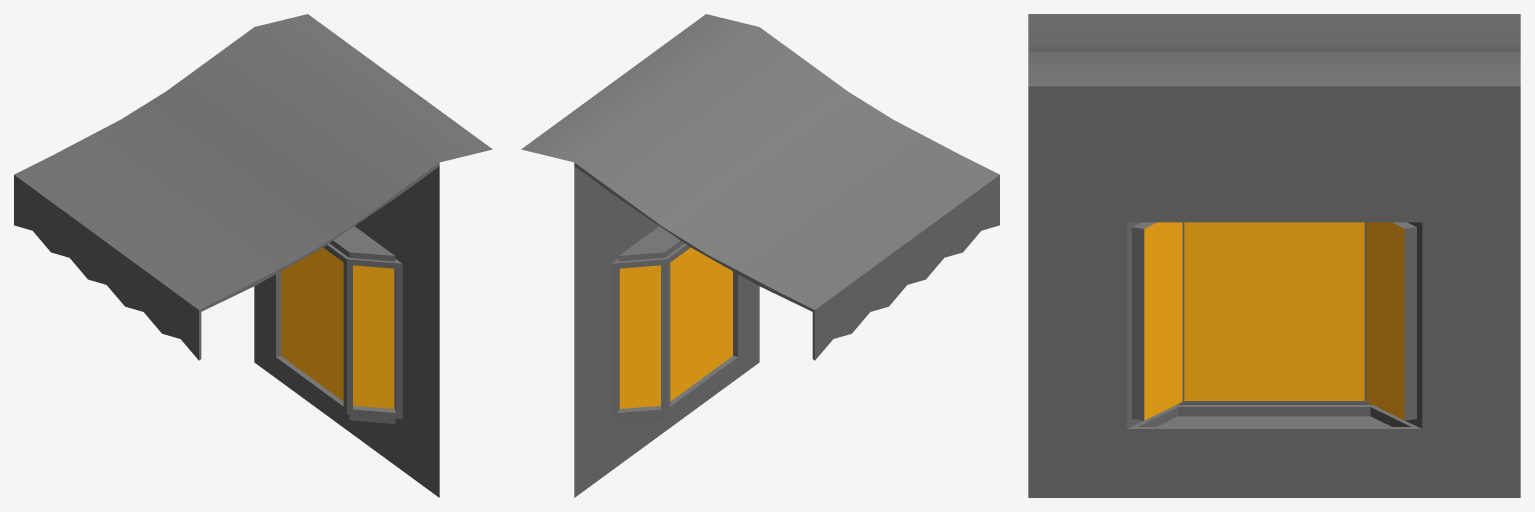
Rendered from O5_Façade_Boutique_Oriel_Fenetre_Tonnelle.fbx.
The picture shows the model from 3 angles, left to right: view 1: azimuth 30°, elevation 25°; view 2: azimuth 150°, elevation 25°; view 3: azimuth 270°, elevation 25°; orthographic projection. The views are drawn at different scales.
Visible parts, largest first — view 1: O5_Façade_Boutique_Oriel_Fenetre_Tonnelle; view 2: O5_Façade_Boutique_Oriel_Fenetre_Tonnelle; view 3: O5_Façade_Boutique_Oriel_Fenetre_Tonnelle.
Part boxes in pixels (x1,y1,x2,y2): O5_Façade_Boutique_Oriel_Fenetre_Tonnelle: (14, 14, 492, 497); O5_Façade_Boutique_Oriel_Fenetre_Tonnelle: (521, 14, 999, 497); O5_Façade_Boutique_Oriel_Fenetre_Tonnelle: (1028, 14, 1520, 497).
Size of the model in its own units: 2.75 by 3 by 3.
